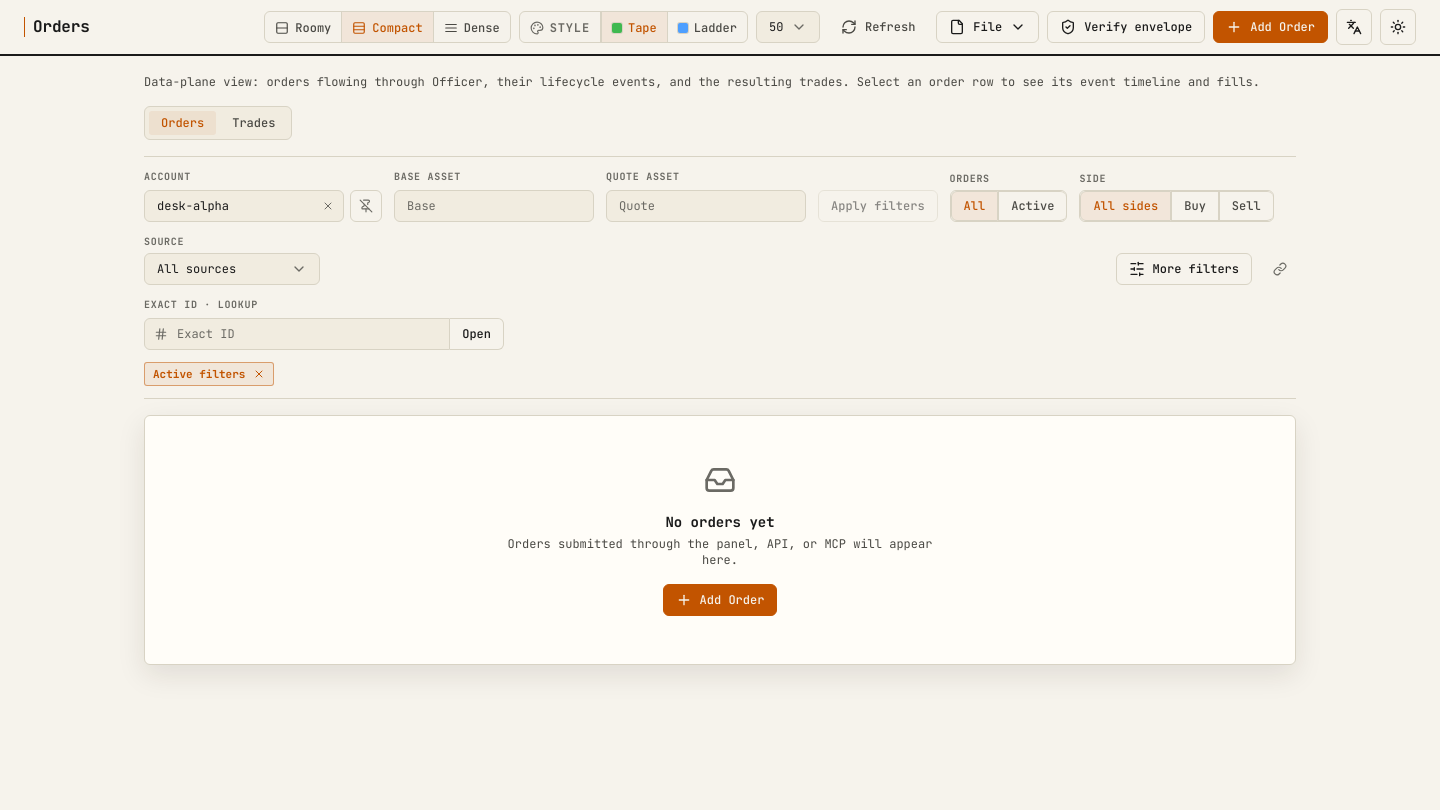
Scenario: Orders account pre-fill › pre-fills the new-order account when a single account is filtered
Click the button "Add Order" in the row of "Style" at [1271, 27], box [1213,11,1328,43]
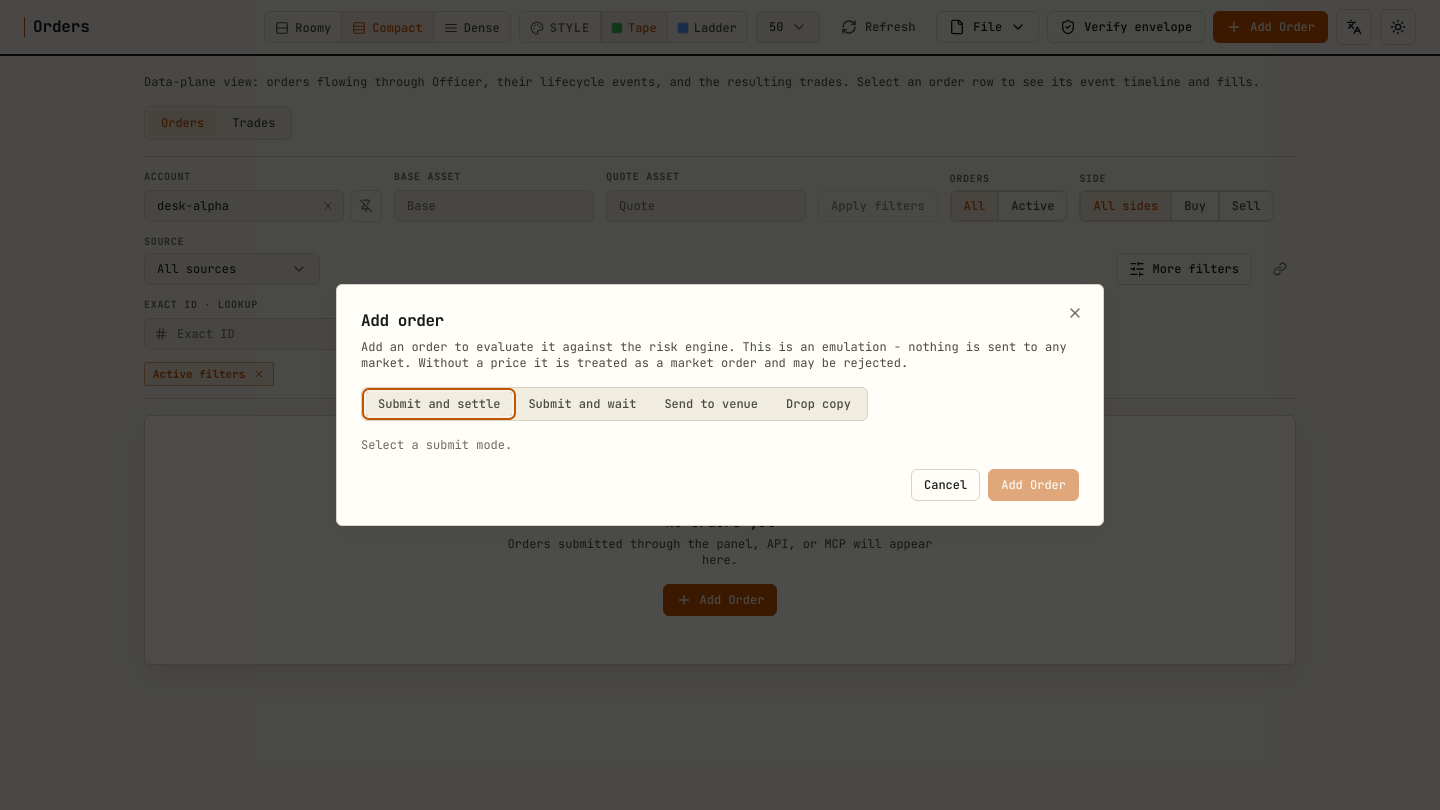
Click the tab "Submit and settle" at [439, 404], box [366,392,512,416]
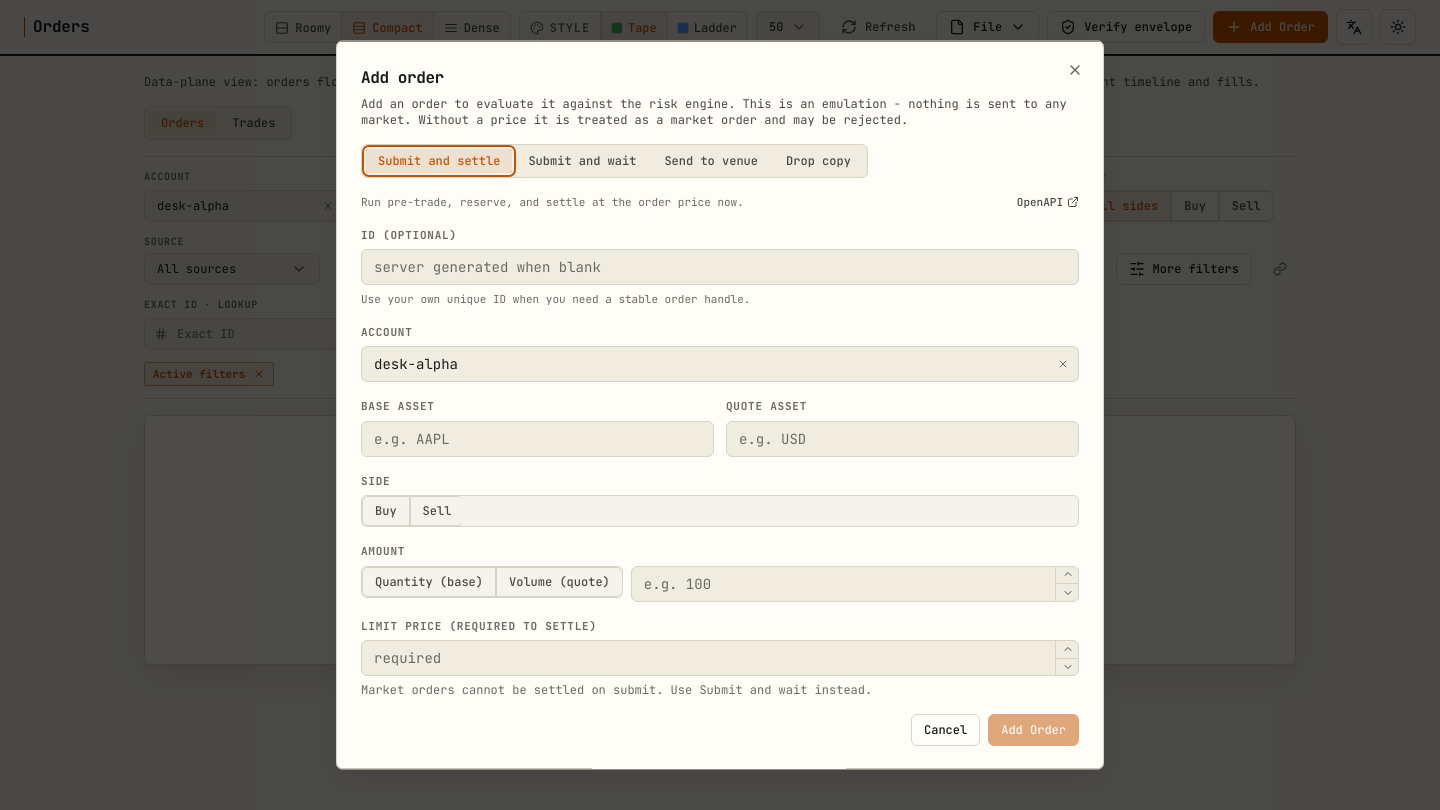
Now the dropdown labelled "Account" holds "desk-alpha", box [361,346,1079,382]
